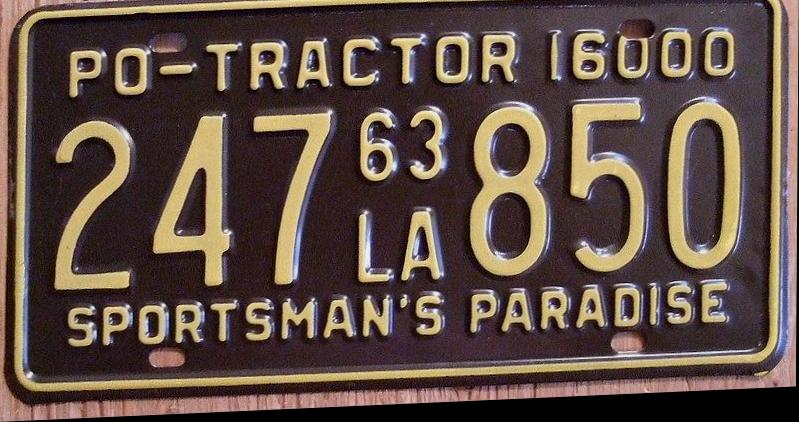License_Plate: (26, 0, 785, 408)
